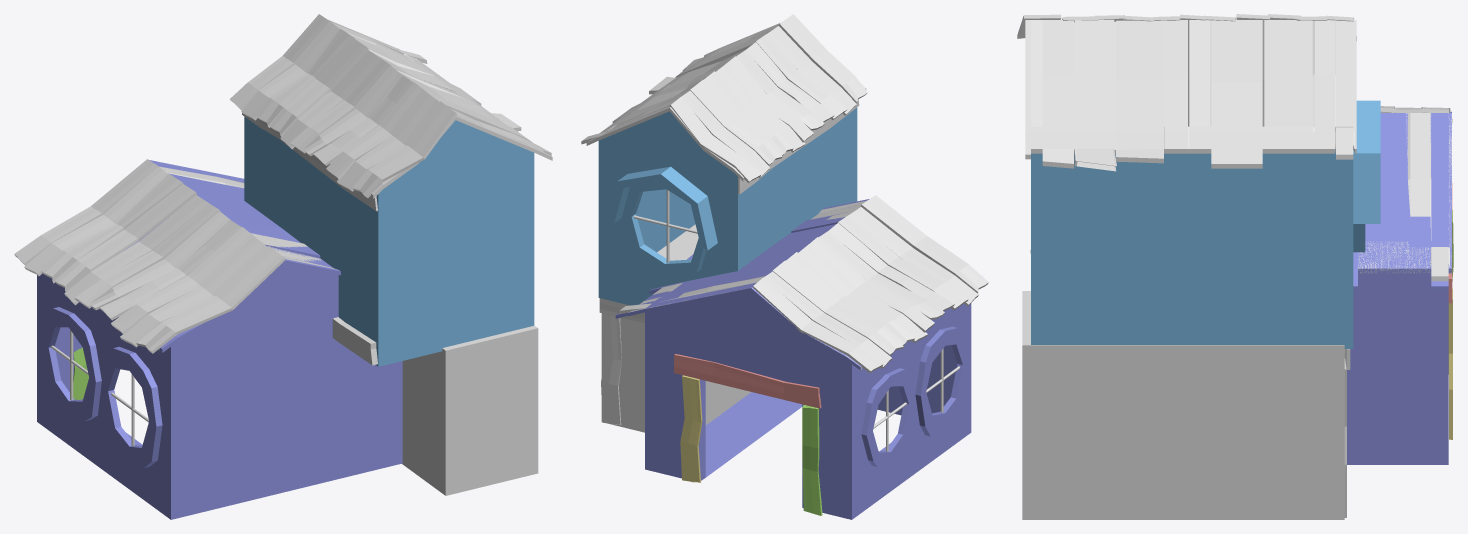
The model's file is styled envirenment2.fbx.
3 renders of one model, left to right at view 1: azimuth 30°, elevation 25°; view 2: azimuth 150°, elevation 25°; view 3: azimuth 270°, elevation 25°, orthographic. The views are drawn at different scales.
Visible parts, largest first — view 1: Cube, Cube.004, Cube.019, Cube.005, Cube.032, Cube.028, Cube.031, Cube.030, Cube.014, Cube.027, Cube.033, Cube.025 (+18 smaller); view 2: Cube, Cube.004, Cube.019, Cube.005, Cube.001, Cube.032, Cube.025, Cube.028, Cube.031, Cube.034, Cube.014, Cube.030 (+21 smaller); view 3: Cube.004, Cube.019, Cube.005, Cube, Cube.023, Cube.002.
Part boxes in pixels (box(x1,y1,x2,y2)): Cube: box(37, 160, 402, 519); Cube.004: box(244, 116, 534, 366); Cube.019: box(402, 325, 538, 495); Cube.005: box(245, 15, 552, 198); Cube.032: box(136, 246, 285, 353); Cube.028: box(55, 184, 196, 291); Cube.031: box(120, 237, 267, 347); Cube.030: box(111, 227, 254, 334); Cube.014: box(352, 101, 457, 197); Cube.027: box(64, 195, 209, 305); Cube.033: box(24, 166, 167, 275); Cube.025: box(14, 159, 158, 265); Cube: box(615, 199, 982, 519); Cube.004: box(598, 107, 857, 305); Cube.019: box(601, 224, 750, 432); Cube.005: box(581, 23, 866, 181); Cube.001: box(674, 354, 821, 408); Cube.032: box(860, 195, 988, 293); Cube.025: box(752, 277, 883, 372); Cube.028: box(786, 252, 914, 345); Cube.031: box(849, 207, 978, 306); Cube.034: box(772, 260, 903, 355); Cube.014: box(778, 14, 867, 102); Cube.030: box(838, 215, 968, 310); Cube.004: box(1031, 100, 1380, 348); Cube.019: box(1022, 291, 1344, 519); Cube.005: box(1025, 19, 1356, 171); Cube: box(1347, 111, 1451, 464); Cube.023: box(1358, 111, 1451, 281); Cube.002: box(1448, 288, 1452, 439).
Bounding box in the file's own units: 319 × 315 × 271.
